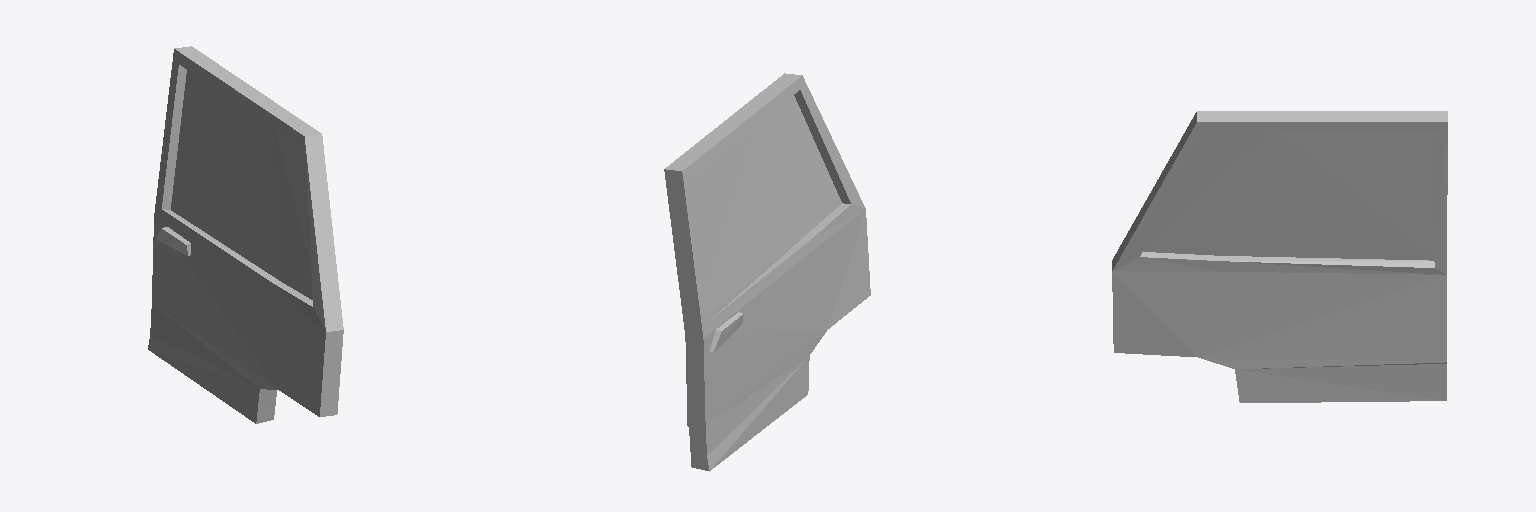
Rendered from Van_Door_F_R.obj.
3 renders of one model, left to right at view 1: azimuth 30°, elevation 25°; view 2: azimuth 150°, elevation 25°; view 3: azimuth 270°, elevation 25°, orthographic.
Visible parts, largest first — view 1: Van_Door_F_R; view 2: Van_Door_F_R; view 3: Van_Door_F_R.
Boxes of the visible parts, box(x1,y1,x2,y2) form: Van_Door_F_R: box(148, 46, 343, 423); Van_Door_F_R: box(664, 73, 870, 471); Van_Door_F_R: box(1112, 111, 1447, 402).
Bounding box in the file's own units: 0.5111 × 2.92 × 2.99.